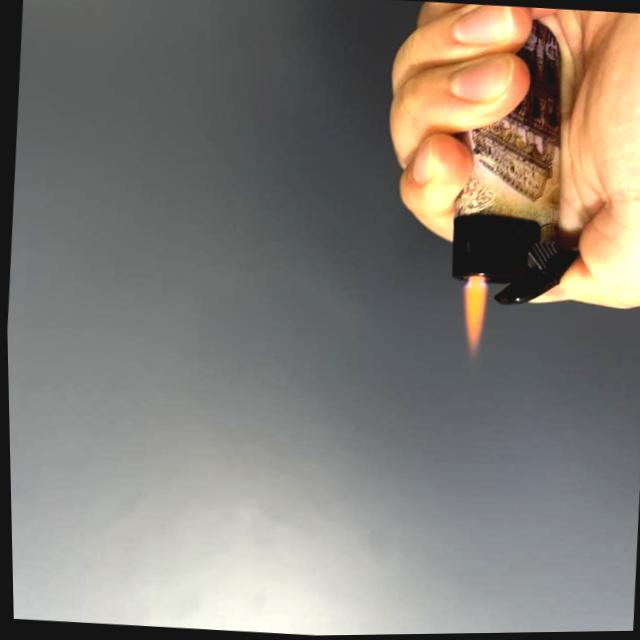helmet: (453, 277, 491, 357)
